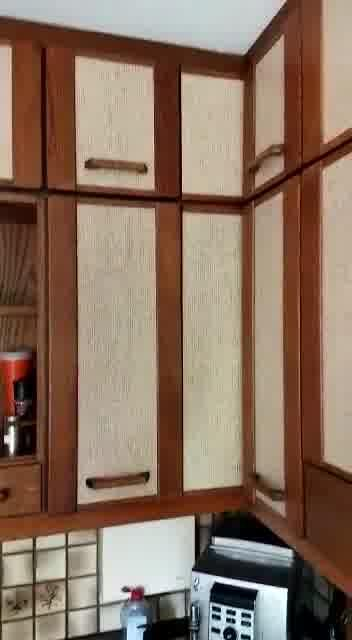cabinet_door: (48, 205, 180, 510), (44, 47, 174, 202), (245, 193, 304, 521), (241, 35, 305, 188)
handle: (244, 135, 295, 183), (82, 467, 156, 498), (249, 465, 295, 508), (83, 153, 152, 181)
